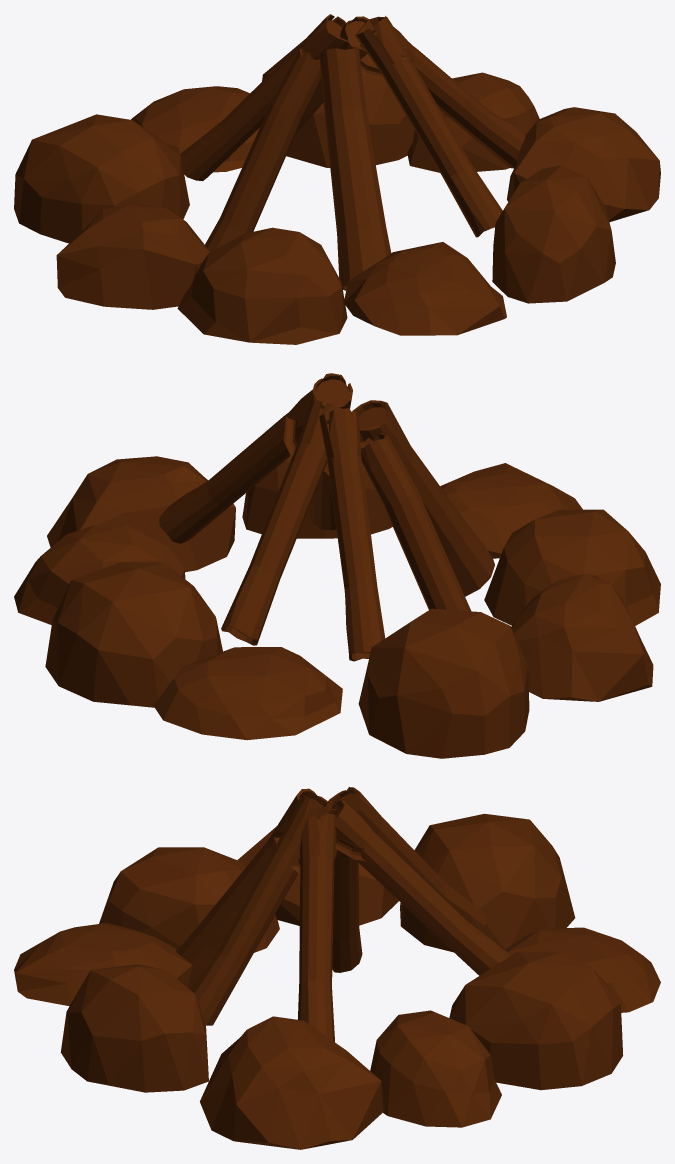
File: camping_campfire ready to use.glb
3 renders of one model, top to bottom at view 1: azimuth 30°, elevation 25°; view 2: azimuth 150°, elevation 25°; view 3: azimuth 270°, elevation 25°, orthographic. The views are drawn at different scales.
Visible parts, largest first — view 1: camping_campfire ready to use; view 2: camping_campfire ready to use; view 3: camping_campfire ready to use.
Part boxes in pixels (x1,y1,x2,y2): camping_campfire ready to use: (14, 14, 660, 344); camping_campfire ready to use: (14, 373, 660, 758); camping_campfire ready to use: (14, 787, 660, 1149).
Size of the model in its own units: 145 by 56.92 by 136.
